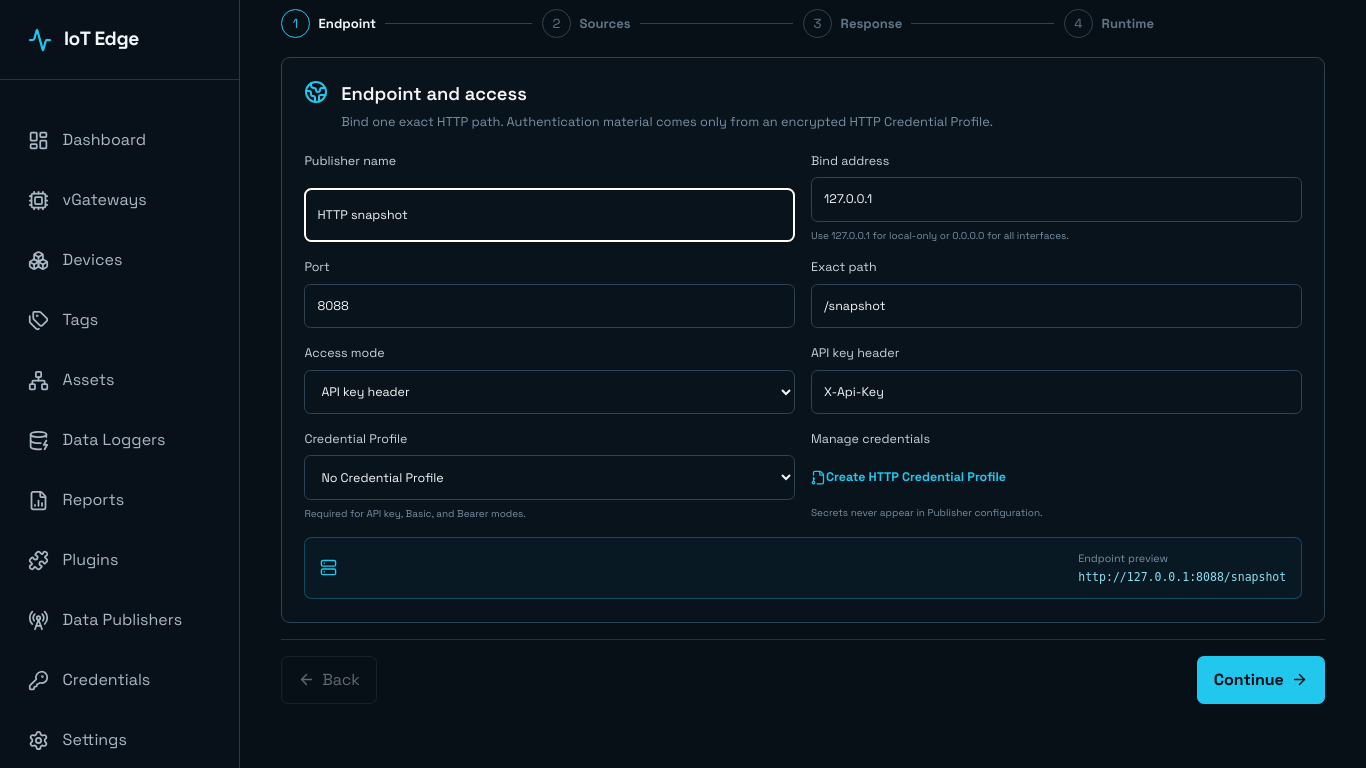
Test: HTTPServerPublisherWizardPage › starts secure and blocks API-key access until a matching profile is selected
(page scrolled)
Check: the field labelled "Bind address" holds "127.0.0.1", box [811, 177, 1302, 222]
Check: the number field named "HTTP Server port" holds "8088", box [304, 284, 795, 328]
Step 1. Click the button "Continue" → (1261, 680), box [1197, 656, 1325, 704]
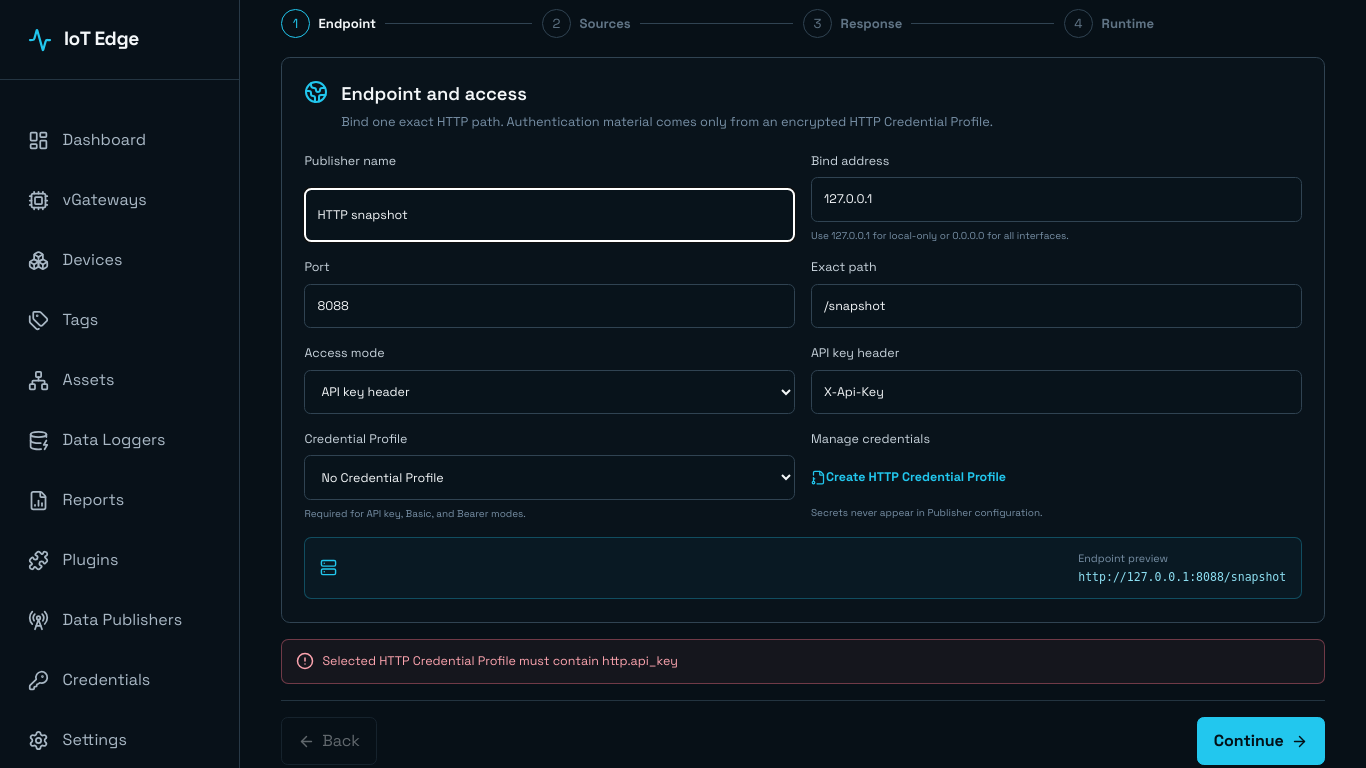
Check: the message shows "must contain http.api_key", box [322, 653, 678, 669]
Step 2. Select "Plant HTTP API" in the dropdown named "HTTP Credential Profile" → (550, 478), box [304, 455, 795, 500]
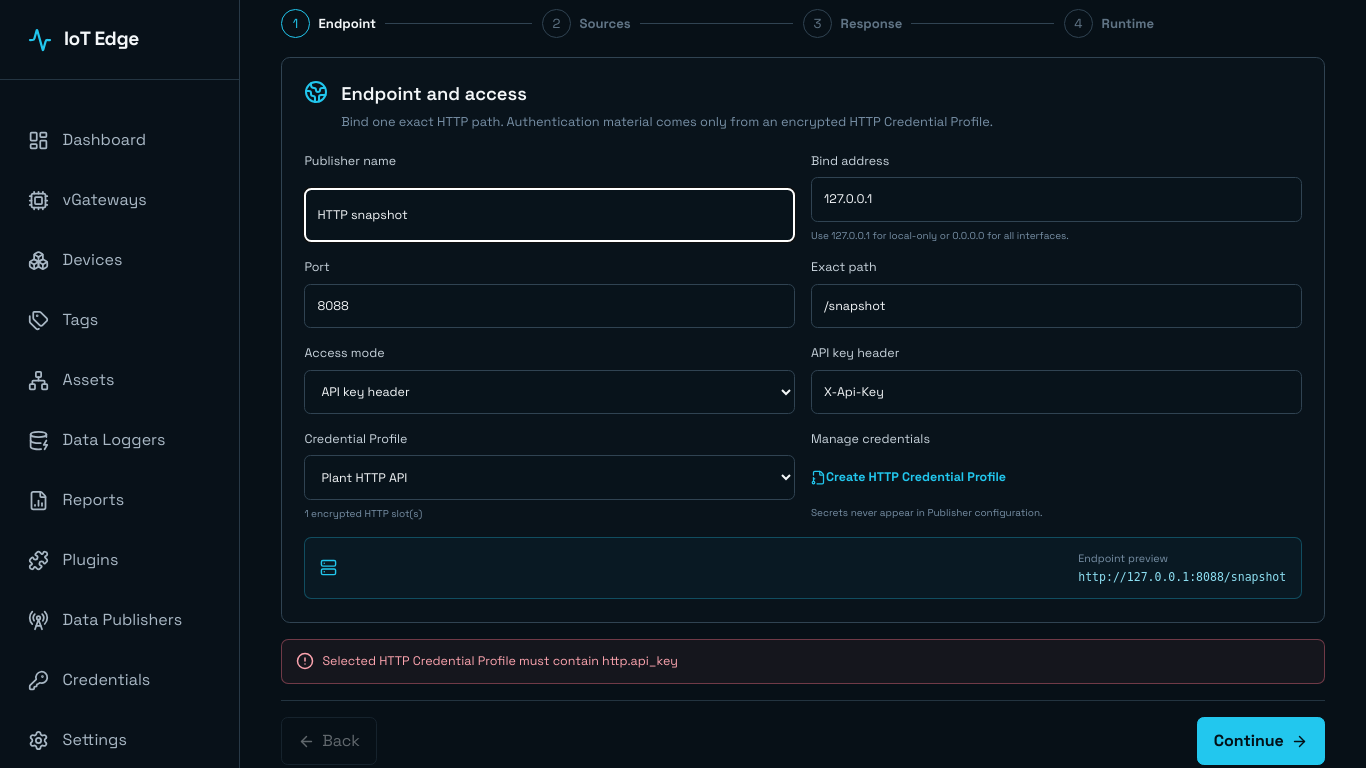
Step 3. Click the button "Continue" → (1261, 741), box [1197, 717, 1325, 765]
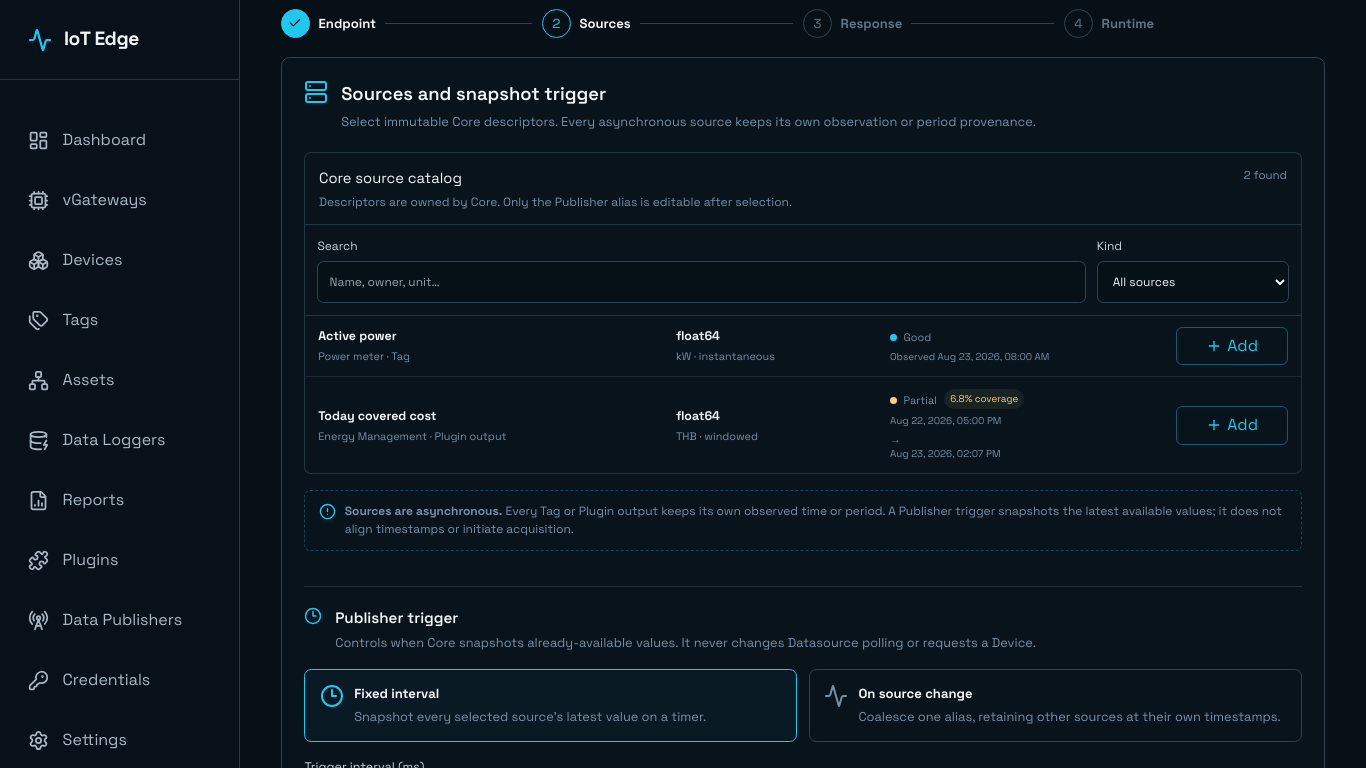
Check: the heading "Sources and snapshot trigger" is shown, box [341, 82, 606, 106]
